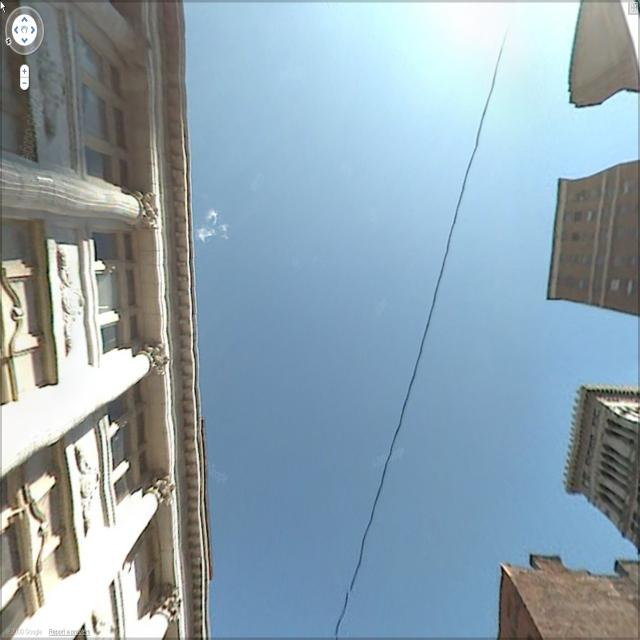b_1: (1, 13, 222, 628), (487, 546, 637, 640), (547, 166, 640, 314), (559, 384, 640, 533), (555, 2, 640, 132)
